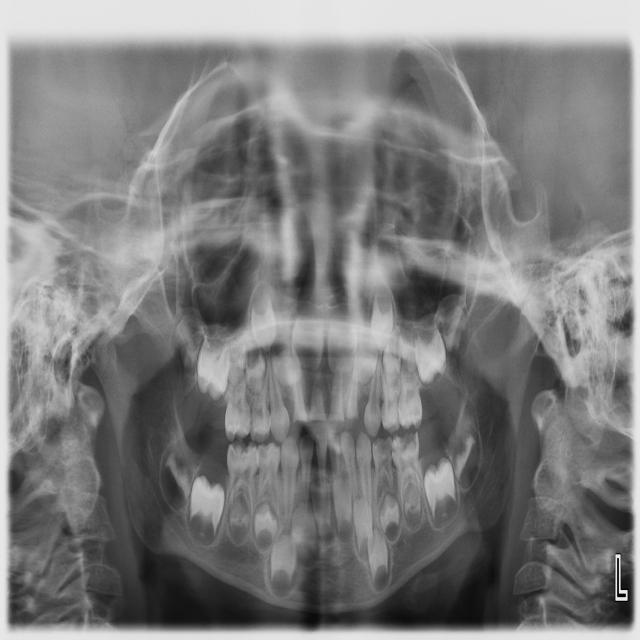mandibula: (93, 300, 547, 607)
